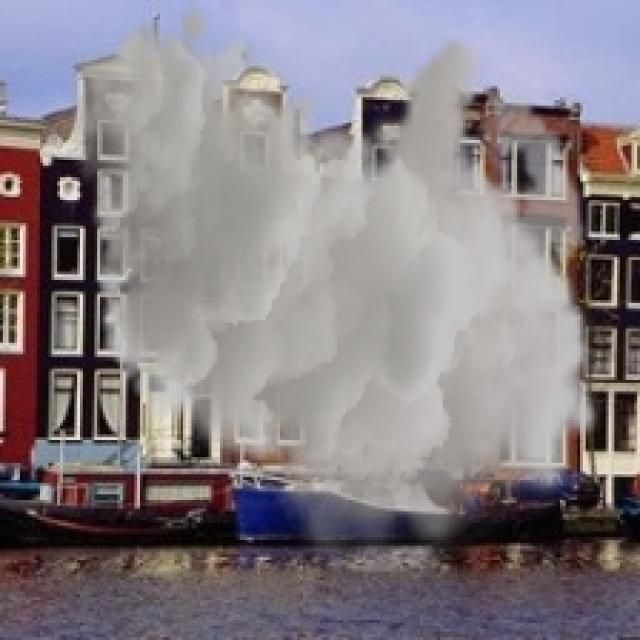Smoke: (68, 0, 603, 569)
